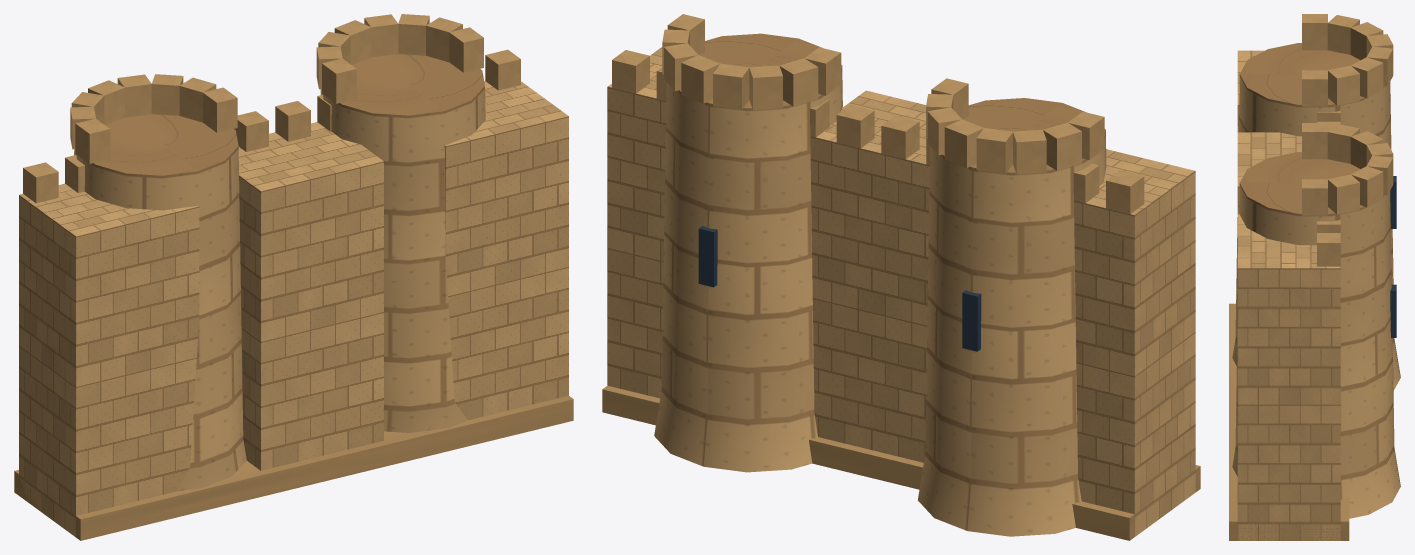
The model's file is env_baku_wall.glb.
3 renders of one model, left to right at view 1: azimuth 30°, elevation 25°; view 2: azimuth 150°, elevation 25°; view 3: azimuth 270°, elevation 25°, orthographic. The views are drawn at different scales.
Parts seen in each view (by area): view 1: env_baku_wall; view 2: env_baku_wall; view 3: env_baku_wall.
Boxes of the visible parts, bbox=[...] form: env_baku_wall: bbox=[14, 14, 573, 540]; env_baku_wall: bbox=[602, 14, 1200, 540]; env_baku_wall: bbox=[1229, 14, 1400, 540].
Size of the model in its own units: 12 by 8.5 by 4.
1 material, 1 textured.
